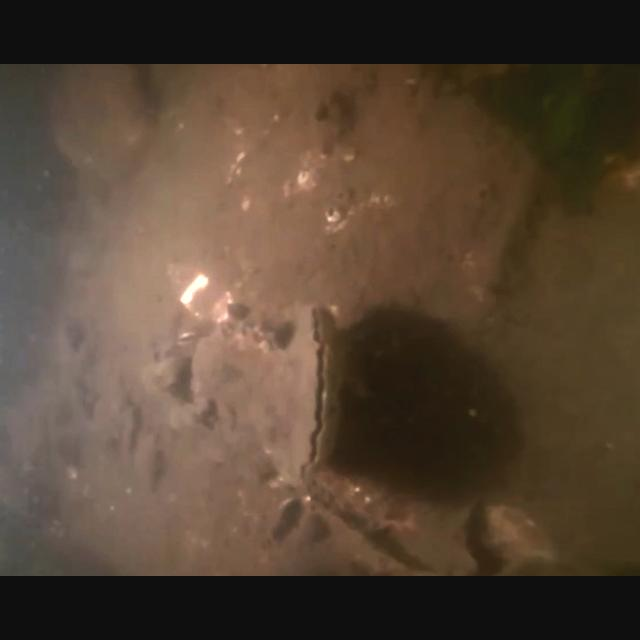Oyster-Open: (250, 296, 348, 488), (189, 314, 283, 466)
